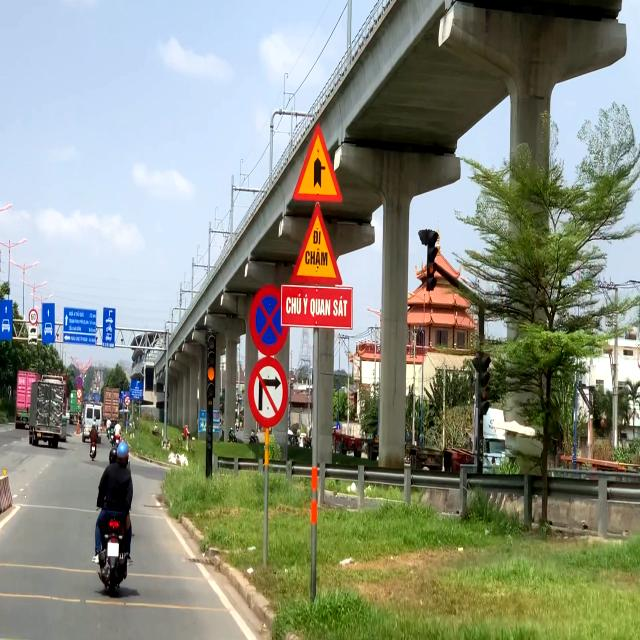P.123b: (248, 356, 289, 429)
P.127: (28, 308, 38, 326)
P.130: (250, 284, 290, 356), (76, 377, 83, 388)
W.207b: (291, 120, 344, 202)
W.245a: (290, 202, 344, 287)
